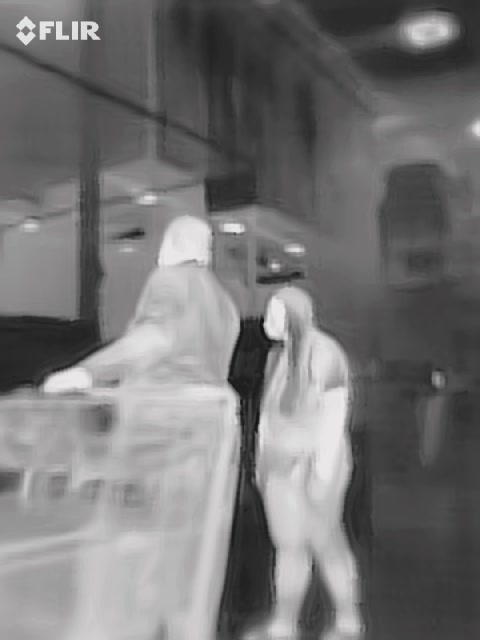head: (158, 217, 212, 270), (263, 286, 311, 341)
